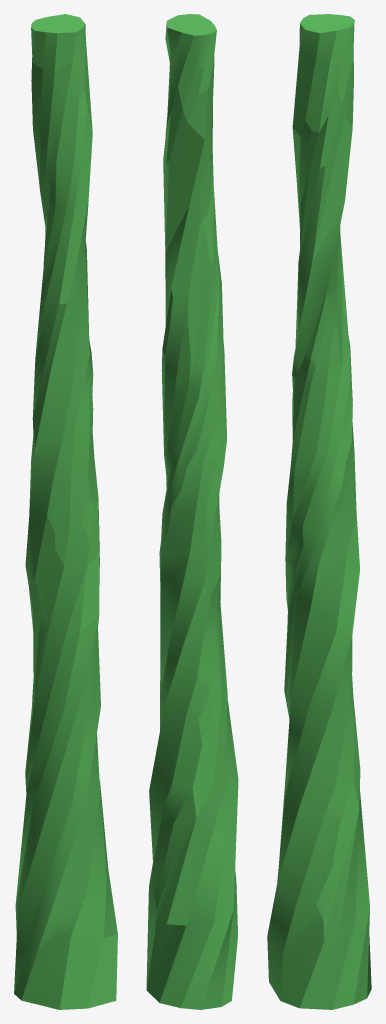
Rendered from jungle_tree_B_twist.fbx.
The picture shows the model from 3 angles, left to right: view 1: azimuth 90°, elevation 25°; view 2: azimuth 210°, elevation 25°; view 3: azimuth 270°, elevation 25°; orthographic projection.
Parts seen in each view (by area): view 1: jungle_tree_B_twist; view 2: jungle_tree_B_twist; view 3: jungle_tree_B_twist.
Boxes of the visible parts, x1,y1,x2,y2 form: jungle_tree_B_twist: (14, 14, 117, 1009); jungle_tree_B_twist: (146, 14, 238, 1009); jungle_tree_B_twist: (267, 14, 371, 1009).
Size of the model in its own units: 75.62 by 906 by 88.39.
